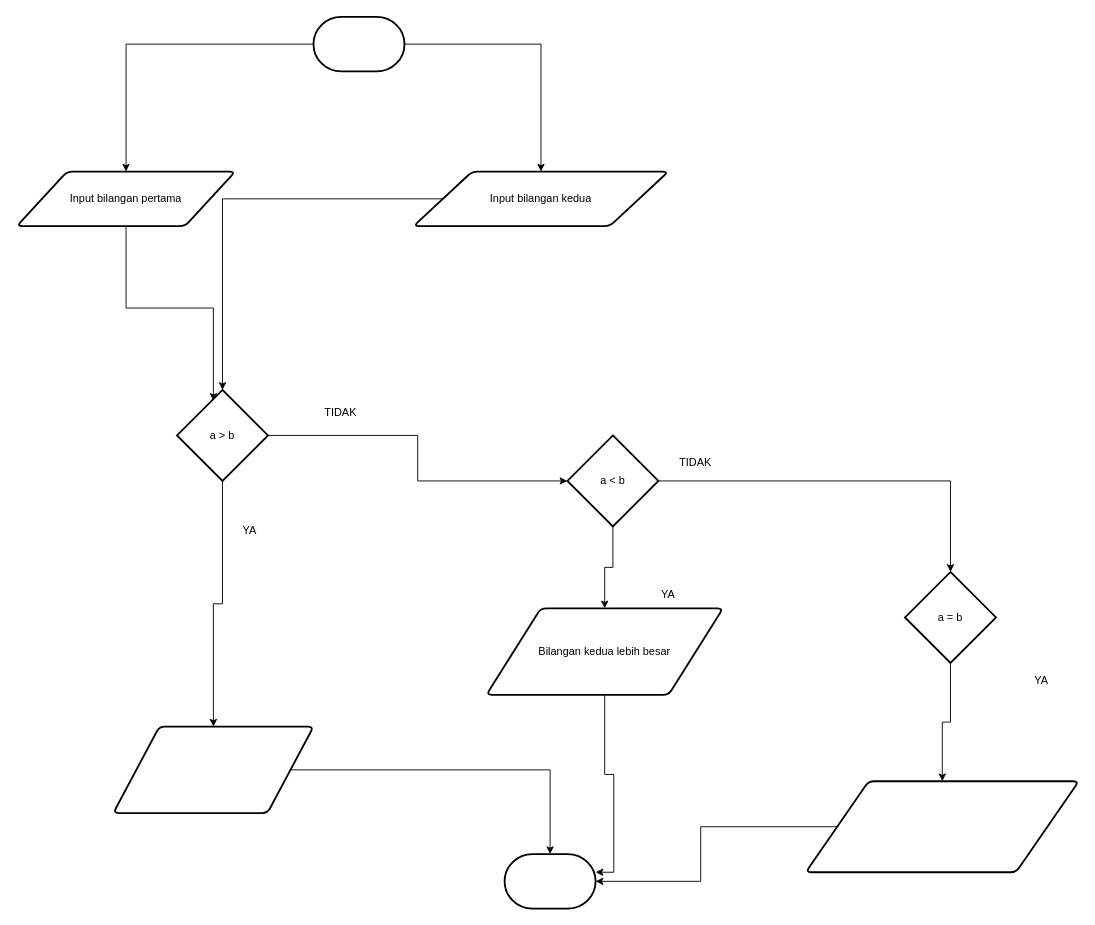
Image size: 1095x925. Some labels were removed from this diagram. Here are the shapes that lost their labels. From the top down, the centre of each, then its label:
At (x=358, y=43): "Mulai".
At (x=213, y=769): "Bilangan pertama lebih besar".
At (x=941, y=826): "Kedua bilangan sama besar".
